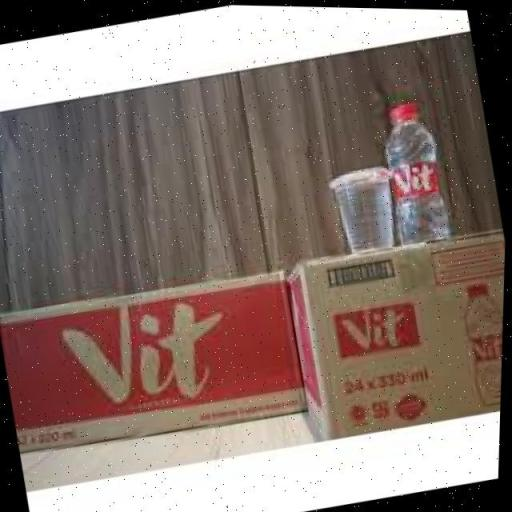plastic: (376, 97, 458, 242)
